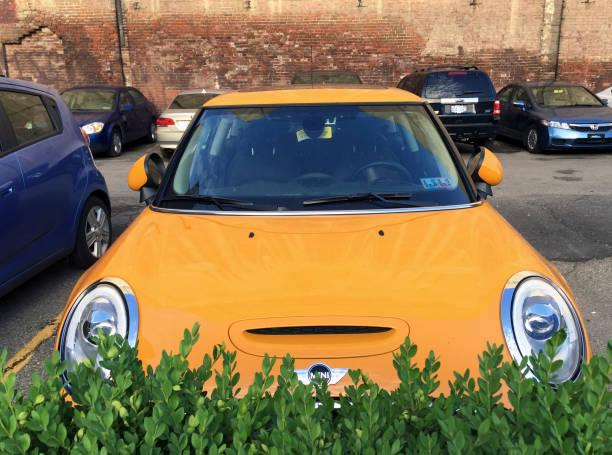mini: (283, 349, 359, 399)
